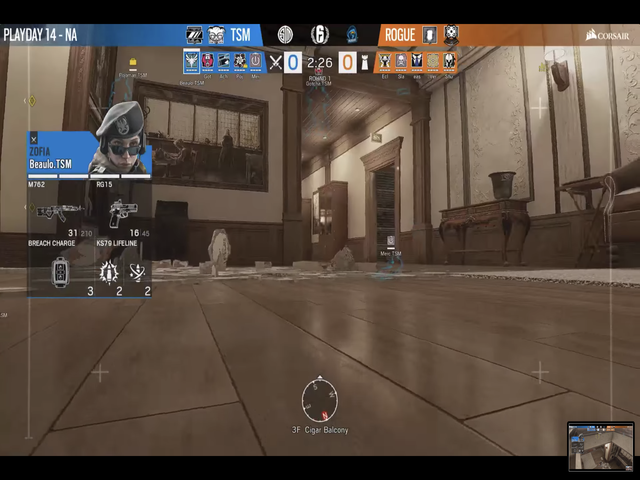0_blue: (283, 51, 301, 73)
